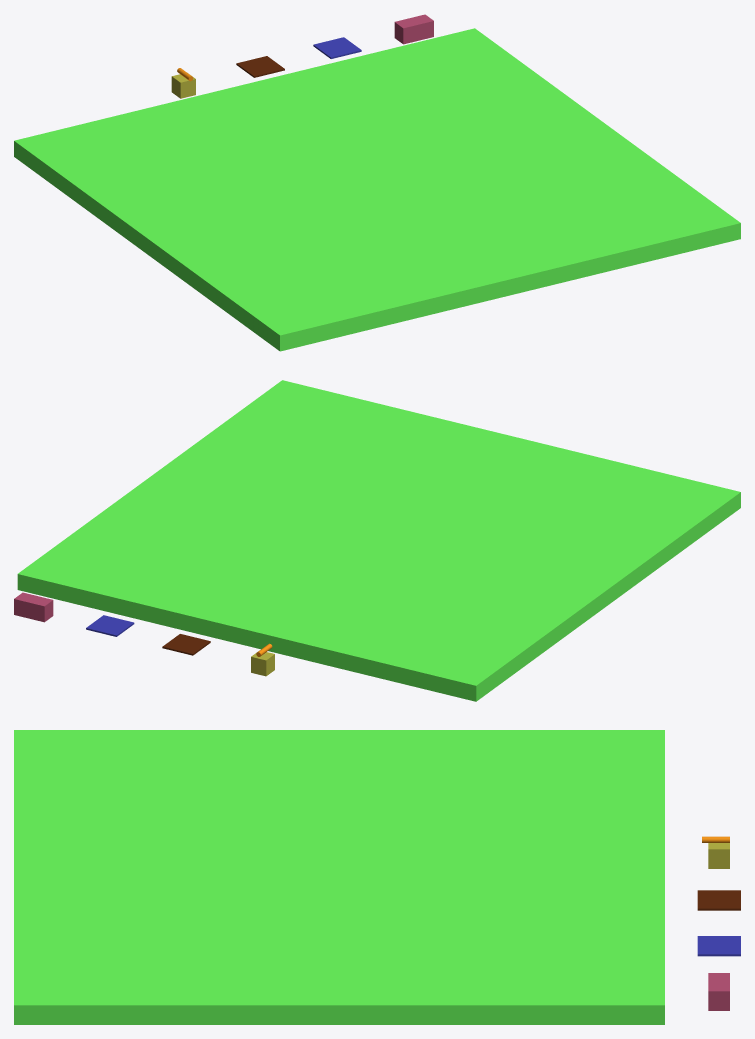
File: testing.gltf
3 views of the same model, one above another, from view 1: azimuth 30°, elevation 25°; view 2: azimuth 150°, elevation 25°; view 3: azimuth 270°, elevation 25° (orthographic). The views are drawn at different scales.
Parts seen in each view (by area): view 1: Platform, Ship, TurretPlace, Path; view 2: Platform, Ship, TurretPlace, Path; view 3: Platform, TurretPlace, Path, Ship, Turret.
Part boxes in pixels (x1,y1,x2,y2): Platform: [14, 28, 740, 351]; Ship: [394, 14, 433, 44]; TurretPlace: [236, 56, 284, 77]; Path: [313, 37, 361, 58]; Platform: [17, 380, 740, 701]; Ship: [14, 592, 53, 622]; TurretPlace: [162, 634, 210, 655]; Path: [86, 615, 134, 636]; Platform: [14, 730, 664, 1024]; TurretPlace: [697, 890, 740, 910]; Path: [697, 936, 740, 956]; Ship: [708, 973, 729, 1010]; Turret: [708, 843, 729, 868].
Bounding box in the file's own units: 60 × 2.8 × 67.
6 materials, 6 textured.
